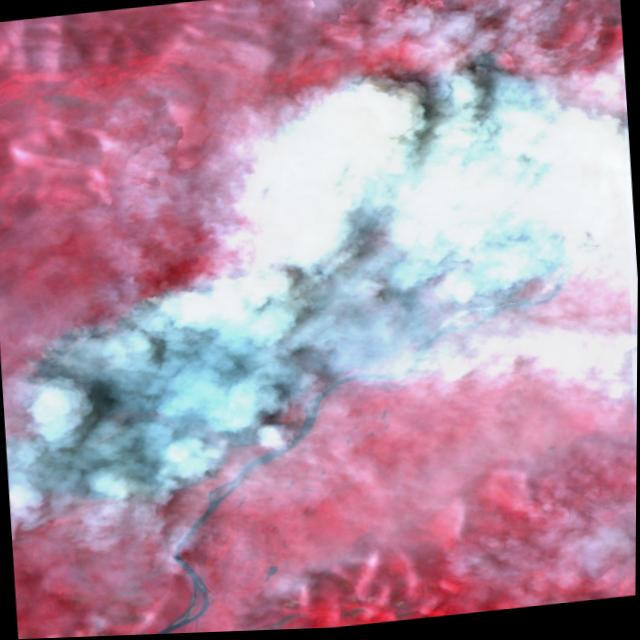fire: (0, 35, 640, 519)
